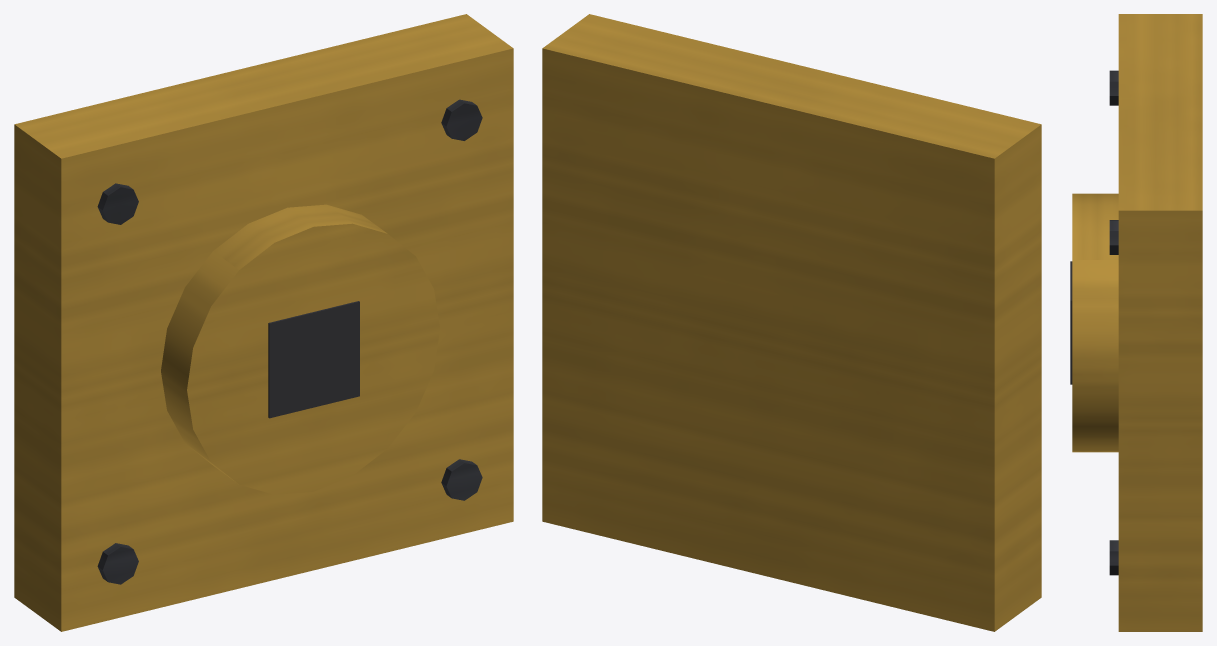
File: HandleSocket.fbx
3 renders of one model, left to right at view 1: azimuth 30°, elevation 25°; view 2: azimuth 150°, elevation 25°; view 3: azimuth 270°, elevation 25°, orthographic. The views are drawn at different scales.
Visible parts, largest first — view 1: HandleSocket; view 2: HandleSocket; view 3: HandleSocket.
Boxes of the visible parts, x1=… form: HandleSocket: x1=14, y1=14, x2=513, y2=631; HandleSocket: x1=542, y1=14, x2=1041, y2=631; HandleSocket: x1=1070, y1=14, x2=1202, y2=631.
Size of the model in its own units: 0.25 by 0.25 by 0.071.
Materials: 3 (2 with a texture image).
